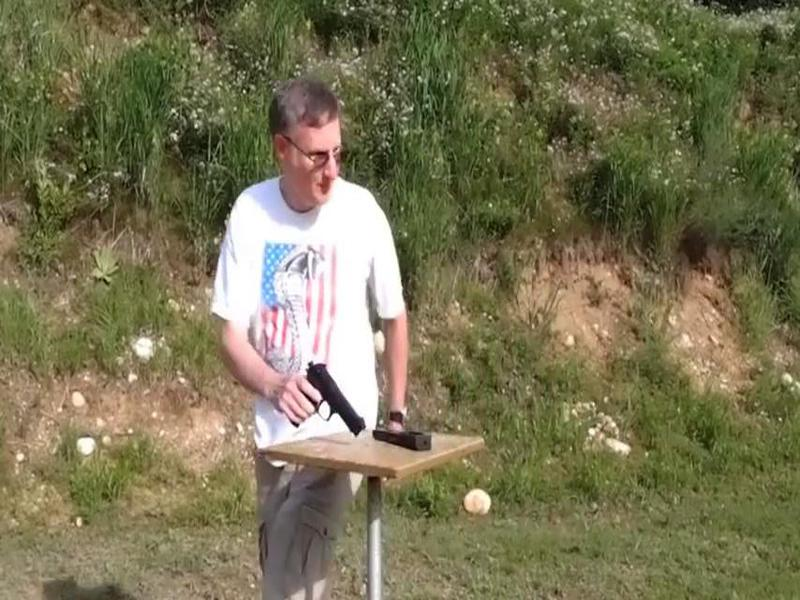Pistola: (269, 364, 373, 447)
